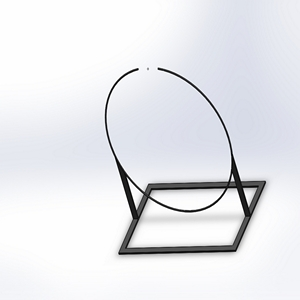circle: (102, 64, 267, 256)
